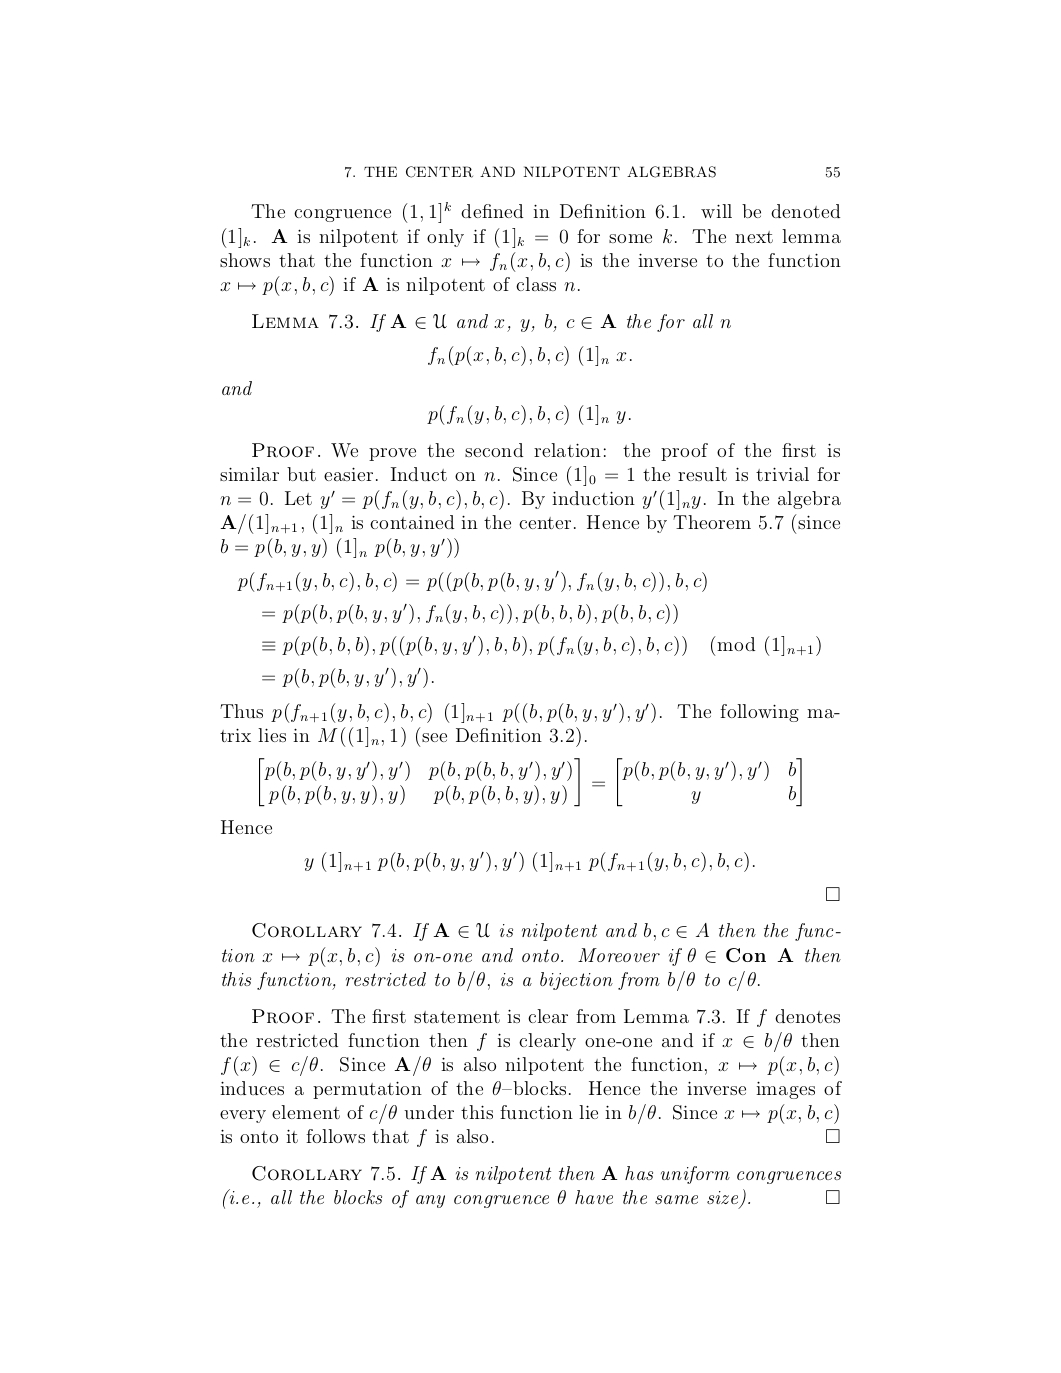formula: (259, 757, 801, 807), (262, 634, 820, 656), (237, 569, 705, 592), (304, 850, 755, 871), (262, 602, 676, 624), (221, 537, 458, 558), (428, 345, 631, 366), (427, 405, 630, 425), (262, 666, 434, 688)
